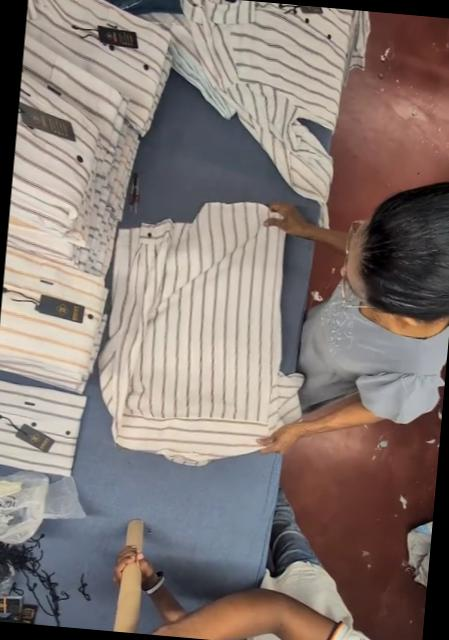new-garment: (98, 203, 300, 464)
